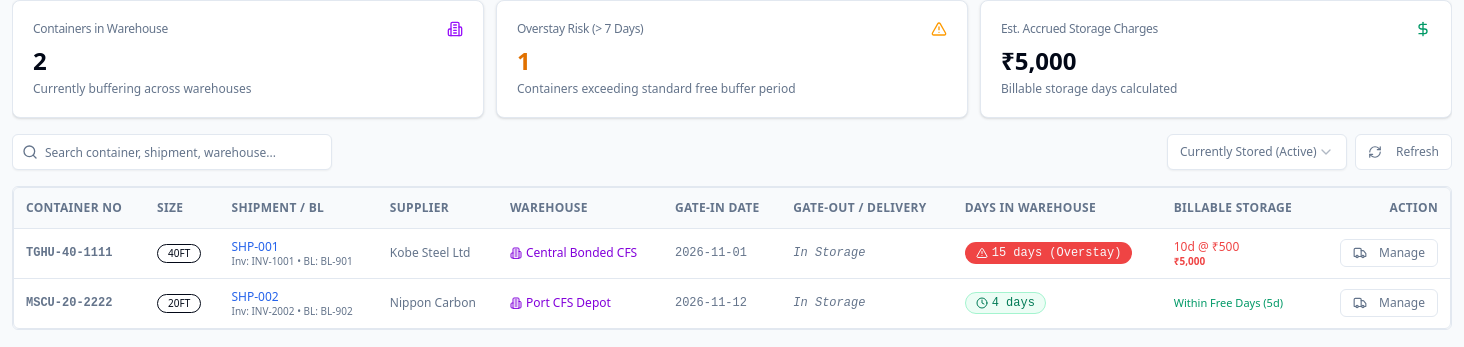
Test: WarehouseDwellMonitor (Warehouse Dwell Time & Storage Reports) › filters table rows based on search input
Expected: the text "TGHU-40-1111" is shown, [14, 228, 145, 278]
Expected: the text "MSCU-20-2222" is shown, [14, 278, 145, 328]
Type "Nippon" into the field with placeholder "Search container, shipment, warehouse..." at (172, 152), box [12, 134, 332, 170]
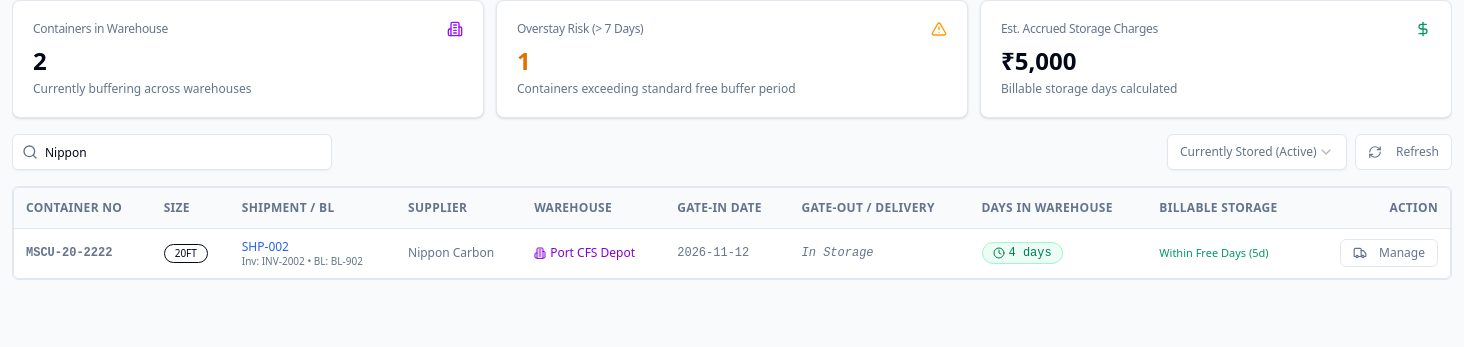
Expected: the text "MSCU-20-2222" is shown, [14, 228, 152, 278]
Expected: the text "TGHU-40-1111" is gone
